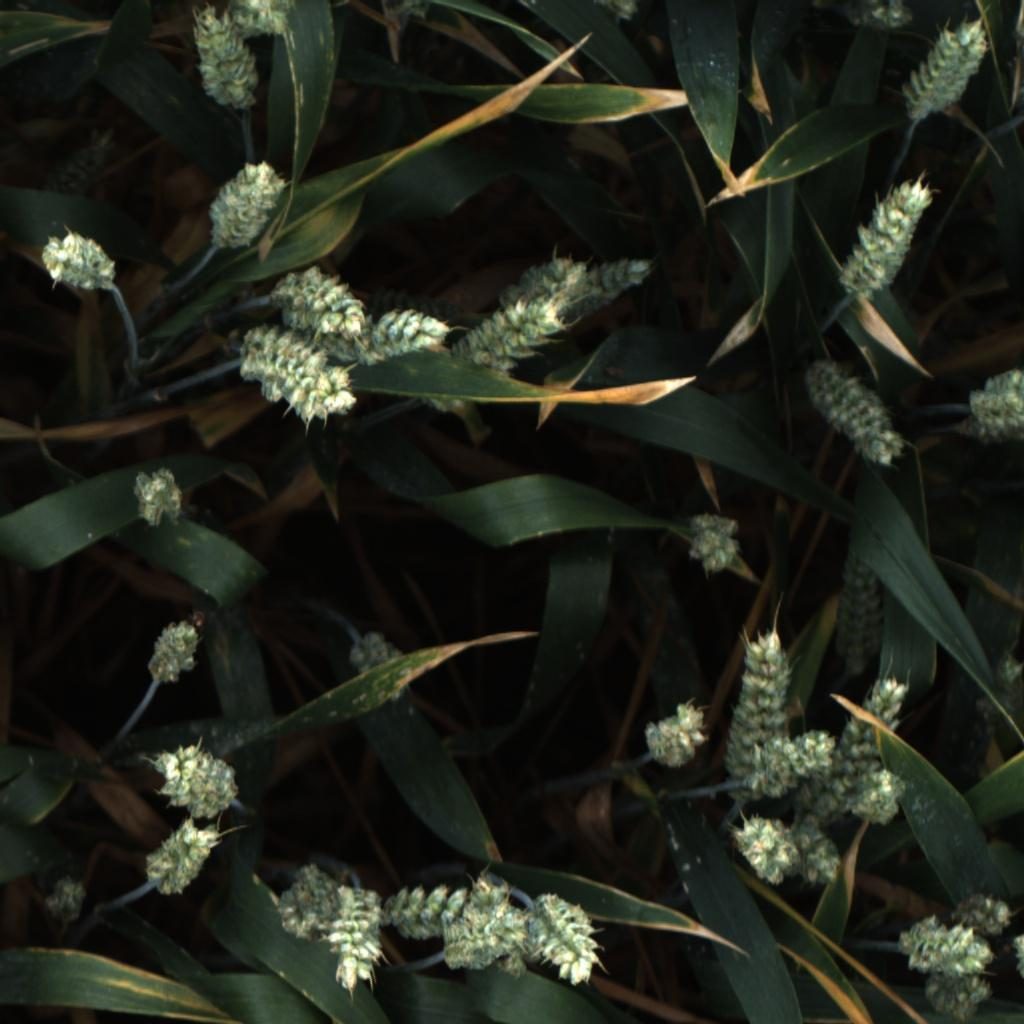0-0: (406, 293, 564, 425), (801, 674, 908, 813), (234, 328, 361, 435), (724, 625, 796, 806), (835, 176, 935, 300), (797, 358, 906, 467), (890, 17, 992, 125), (461, 863, 545, 984), (179, 2, 267, 111), (268, 265, 374, 342), (739, 725, 839, 803), (147, 742, 244, 822), (524, 890, 598, 988), (207, 157, 283, 251), (144, 817, 224, 904), (498, 245, 591, 319), (442, 898, 534, 971), (354, 307, 455, 372), (777, 816, 849, 906), (895, 916, 994, 980), (344, 626, 417, 712), (833, 550, 885, 669), (329, 886, 387, 992), (33, 227, 121, 296), (572, 250, 656, 317), (731, 811, 801, 890), (267, 862, 336, 941), (381, 879, 470, 940), (641, 697, 711, 771), (145, 612, 207, 693), (964, 355, 1024, 437), (682, 507, 748, 580), (128, 457, 190, 530), (919, 968, 993, 1024), (848, 766, 913, 827), (31, 872, 90, 937), (217, 0, 302, 45), (941, 894, 1019, 937), (841, 0, 921, 36), (993, 650, 1024, 725), (379, 0, 432, 36), (580, 0, 640, 26), (973, 694, 1001, 738), (1010, 932, 1024, 987)
